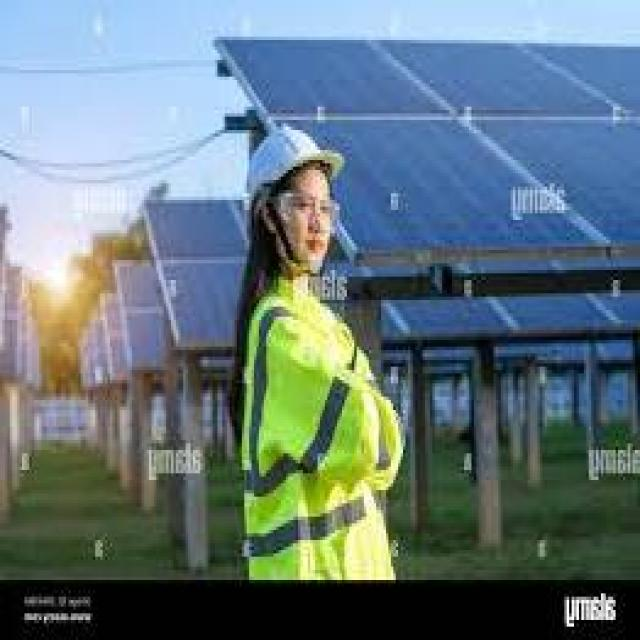Reflective-Jacket: (222, 267, 406, 580)
Safety-Helmet: (230, 116, 352, 216)
